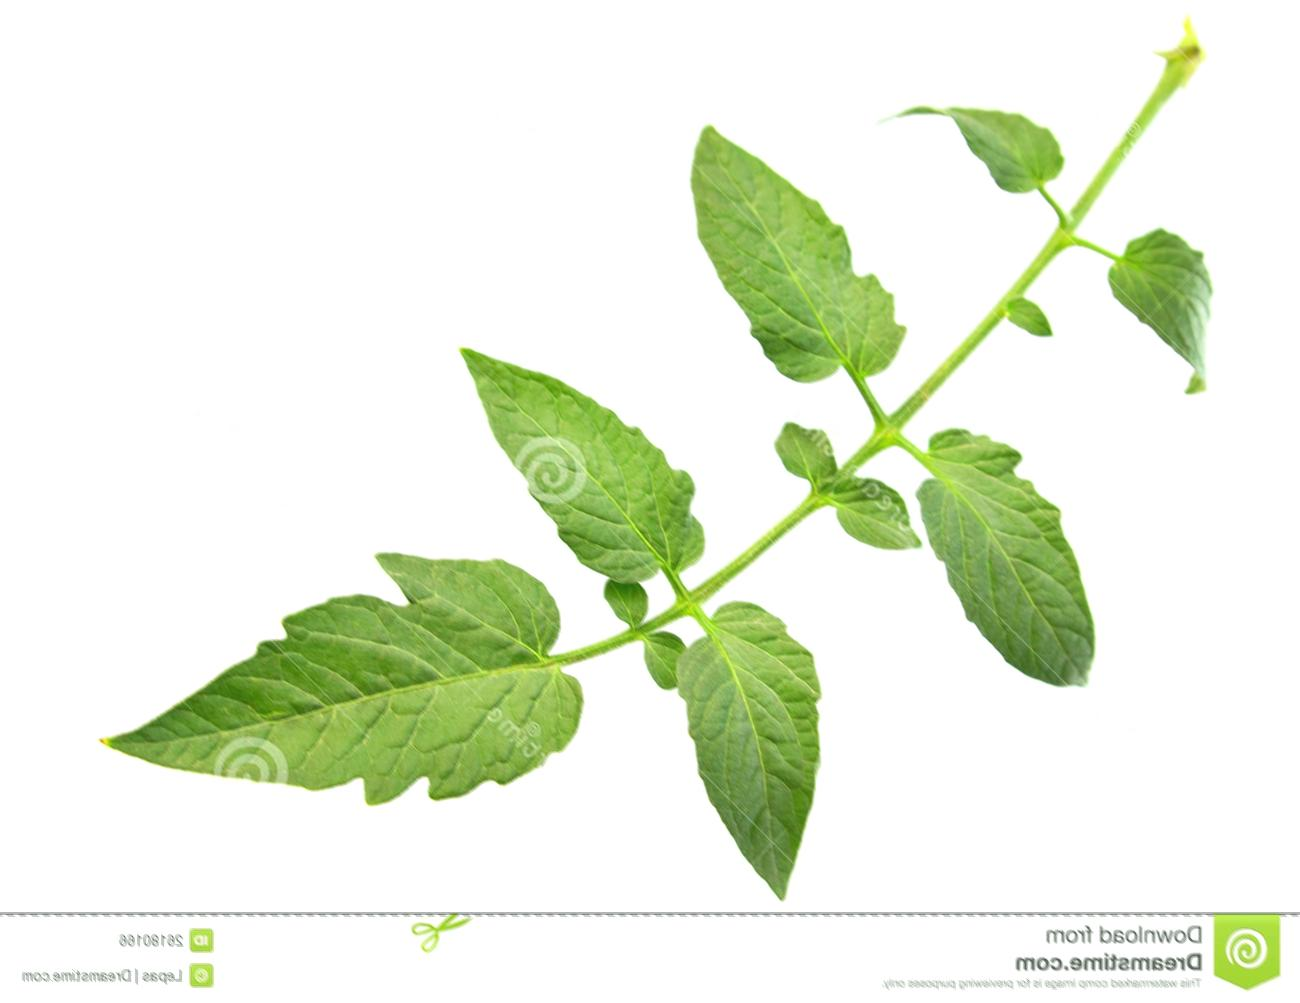Tomato leaf: (84, 527, 570, 876), (639, 90, 961, 415), (595, 582, 886, 904), (899, 414, 1165, 710), (427, 332, 698, 605), (881, 71, 1068, 227), (1090, 223, 1243, 413)
